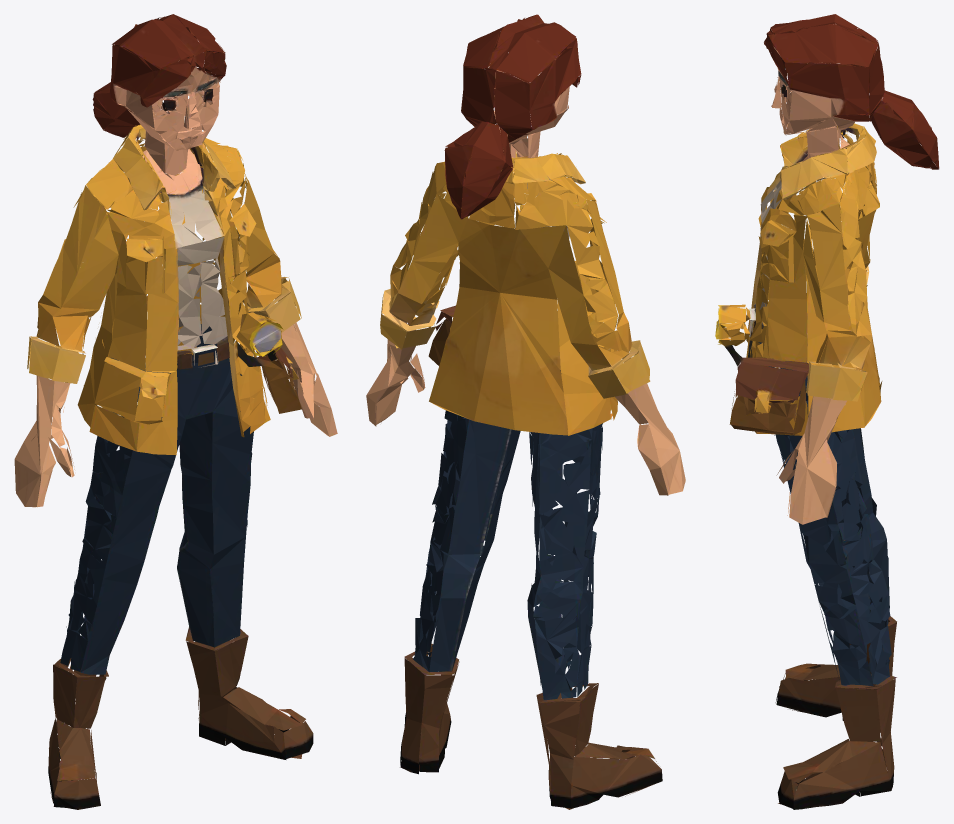
File: habitant.glb
3 views of the same model, side by side, from view 1: azimuth 30°, elevation 25°; view 2: azimuth 150°, elevation 25°; view 3: azimuth 270°, elevation 25° (orthographic). The views are drawn at different scales.
Visible parts, largest first — view 1: world; view 2: world; view 3: world.
Boxes of the visible parts, left/top/right/bottom form: world: left=14, top=14, right=337, bottom=809; world: left=366, top=14, right=685, bottom=809; world: left=715, top=14, right=939, bottom=809.
Bounding box in the file's own units: 0.4317 × 1 × 0.2772.
1 material, 1 textured.
